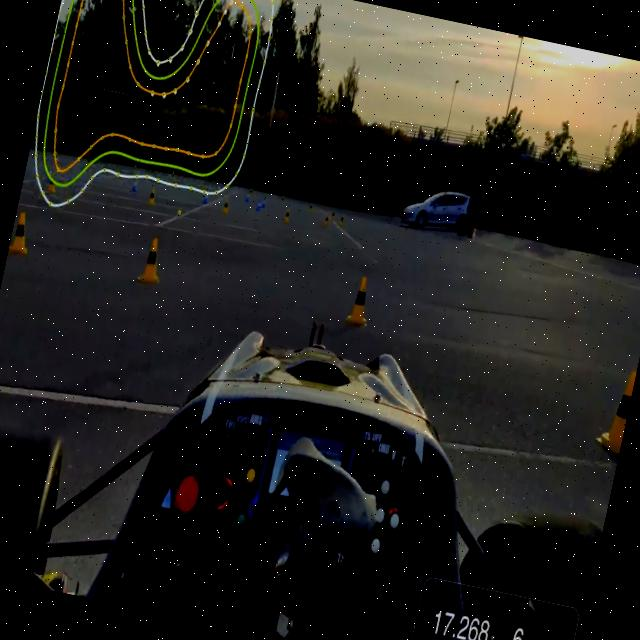blue_cone: (201, 186, 210, 204), (131, 174, 139, 192), (255, 195, 262, 212), (260, 194, 267, 208), (244, 188, 250, 202)
yellow_cone: (593, 366, 636, 456), (344, 274, 376, 328), (136, 235, 168, 286), (8, 207, 36, 257), (145, 185, 157, 208), (46, 170, 58, 193), (221, 196, 230, 214), (282, 206, 292, 222), (338, 212, 345, 227), (322, 214, 330, 226)
